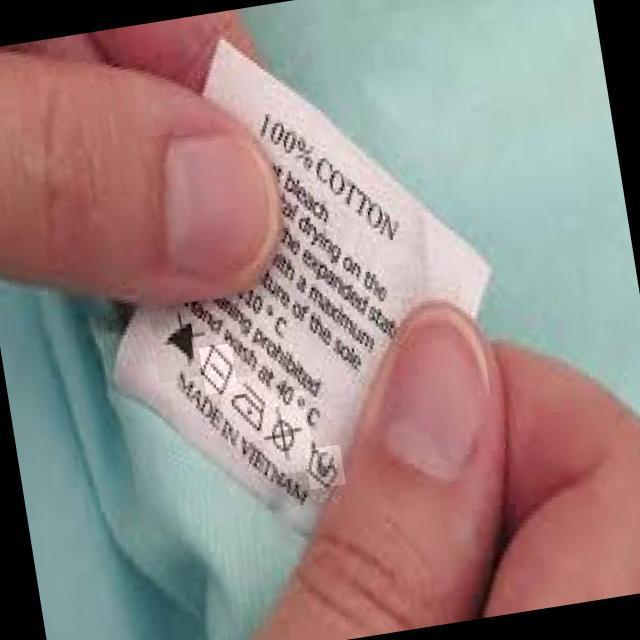DN_bleach: (159, 313, 203, 363)
DN_dry_clean: (265, 413, 303, 457)
dry_flat: (200, 346, 236, 397)
hand_wash: (305, 441, 341, 492)
iron_low: (231, 383, 268, 429)
